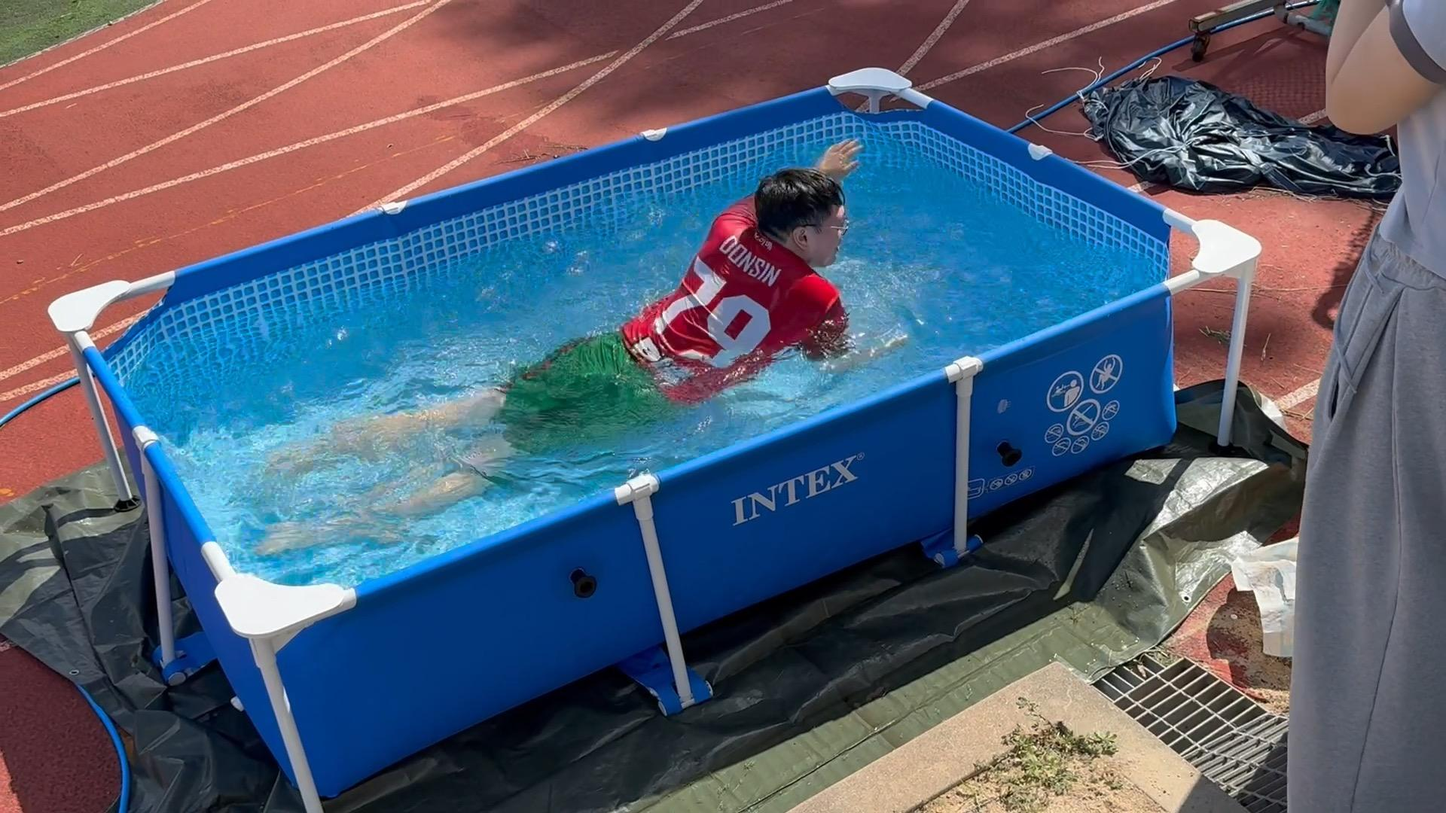Swimming: (248, 106, 912, 575)
